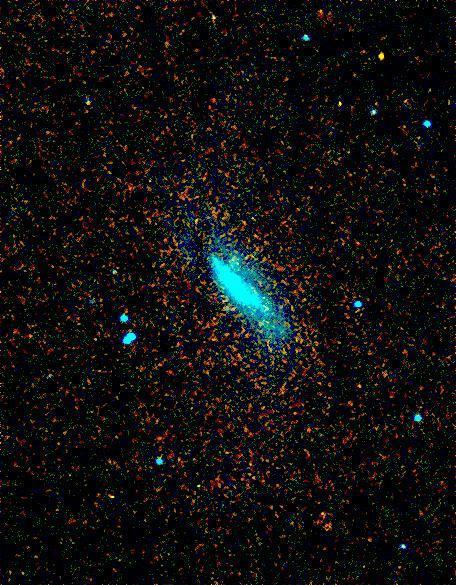star: (367, 42, 397, 72)
